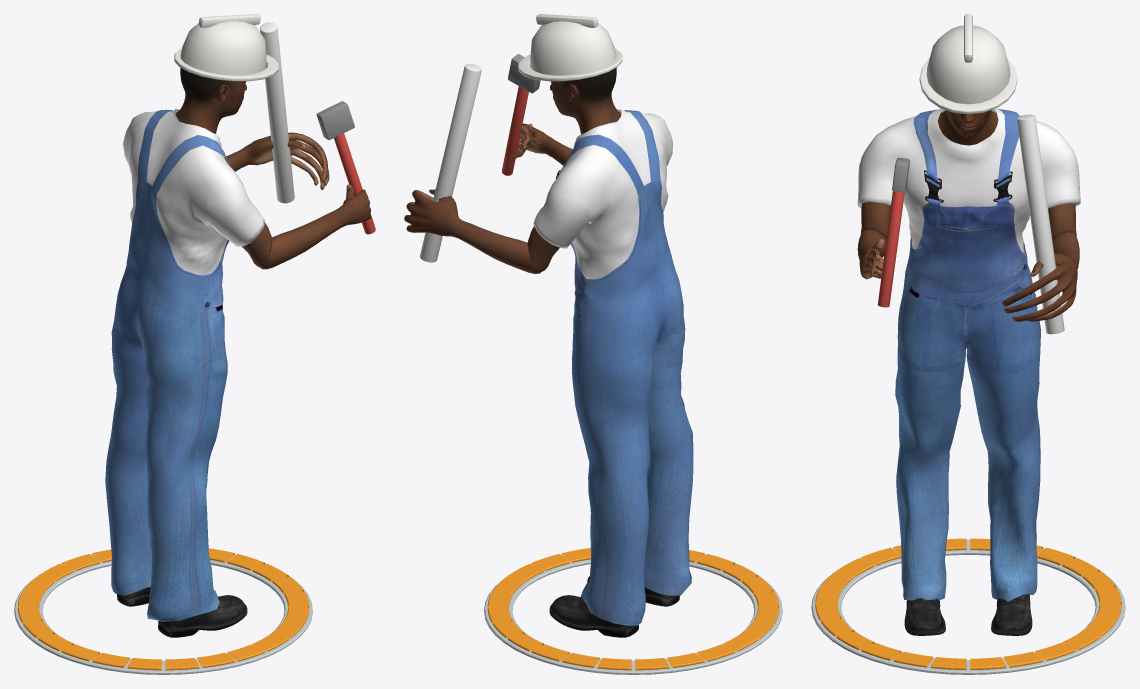
Rendered from MDO-INS-002.glb.
The picture shows the model from 3 angles, left to right: view 1: azimuth 30°, elevation 25°; view 2: azimuth 150°, elevation 25°; view 3: azimuth 270°, elevation 25°; orthographic projection. The views are drawn at different scales.
Parts seen in each view (by area): view 1: MDO-INS-002_pessoa_male_worksuit01, MDO-INS-002_pessoa, MDO-INS-002_capacete, MDO-INS-002_anel_fundo, MDO-INS-002_ferE_tubo, MDO-INS-002_pessoa_shoes04, MDO-INS-002_ferD_mandibula, MDO-INS-002_capacete_aba, MDO-INS-002_ferD_cabo, MDO-INS-002_capacete_friso; view 2: MDO-INS-002_pessoa_male_worksuit01, MDO-INS-002_pessoa, MDO-INS-002_capacete, MDO-INS-002_anel_fundo, MDO-INS-002_ferE_tubo, MDO-INS-002_pessoa_shoes04, MDO-INS-002_ferD_cabo, MDO-INS-002_capacete_aba, MDO-INS-002_ferD_mandibula; view 3: MDO-INS-002_pessoa_male_worksuit01, MDO-INS-002_pessoa, MDO-INS-002_capacete, MDO-INS-002_anel_fundo, MDO-INS-002_ferE_tubo, MDO-INS-002_pessoa_shoes04, MDO-INS-002_ferD_cabo, MDO-INS-002_capacete_aba, MDO-INS-002_ferD_mandibula.
Part boxes in pixels (<box>): MDO-INS-002_pessoa_male_worksuit01: <box>105,109,264,621</box>; MDO-INS-002_pessoa: <box>175,68,371,269</box>; MDO-INS-002_capacete: <box>180,16,266,75</box>; MDO-INS-002_anel_fundo: <box>14,554,312,674</box>; MDO-INS-002_ferE_tubo: <box>260,22,294,203</box>; MDO-INS-002_pessoa_shoes04: <box>117,587,247,637</box>; MDO-INS-002_ferD_mandibula: <box>316,101,354,139</box>; MDO-INS-002_capacete_aba: <box>174,48,278,81</box>; MDO-INS-002_ferD_cabo: <box>334,133,375,234</box>; MDO-INS-002_capacete_friso: <box>198,14,260,27</box>; MDO-INS-002_pessoa_male_worksuit01: <box>533,109,693,625</box>; MDO-INS-002_pessoa: <box>404,68,621,273</box>; MDO-INS-002_capacete: <box>530,16,616,75</box>; MDO-INS-002_anel_fundo: <box>484,554,782,674</box>; MDO-INS-002_ferE_tubo: <box>419,63,481,262</box>; MDO-INS-002_pessoa_shoes04: <box>549,576,679,637</box>; MDO-INS-002_ferD_cabo: <box>502,86,528,175</box>; MDO-INS-002_capacete_aba: <box>518,48,622,81</box>; MDO-INS-002_ferD_mandibula: <box>508,54,540,93</box>; MDO-INS-002_pessoa_male_worksuit01: <box>857,108,1080,601</box>; MDO-INS-002_pessoa: <box>857,110,1079,321</box>; MDO-INS-002_capacete: <box>926,25,1010,104</box>; MDO-INS-002_anel_fundo: <box>811,539,1125,674</box>; MDO-INS-002_ferE_tubo: <box>1017,114,1064,334</box>; MDO-INS-002_pessoa_shoes04: <box>904,594,1032,635</box>; MDO-INS-002_ferD_cabo: <box>877,191,904,307</box>; MDO-INS-002_capacete_aba: <box>919,58,1017,114</box>; MDO-INS-002_ferD_mandibula: <box>892,157,909,192</box>.
Size of the model in its own units: 1.04 by 1.82 by 0.84.
Materials: 11 (5 with a texture image).
